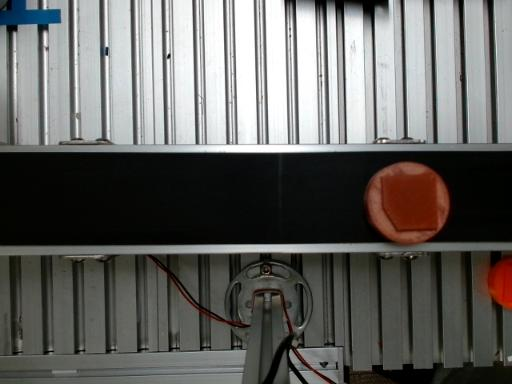Brown_Waper: (365, 162, 450, 243)
Not_Square: (381, 173, 439, 232)
